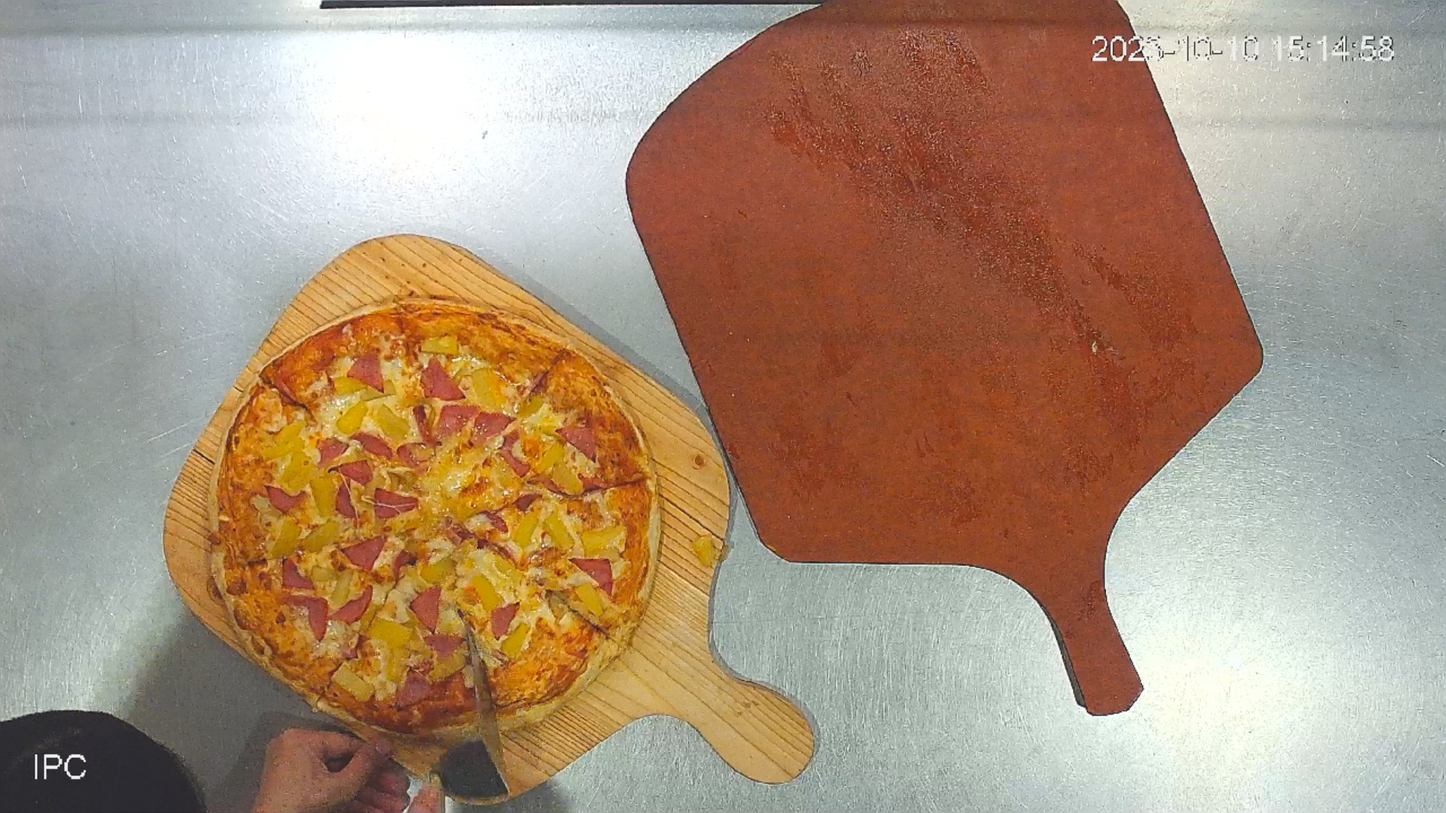hawaiian: (202, 286, 674, 753)
